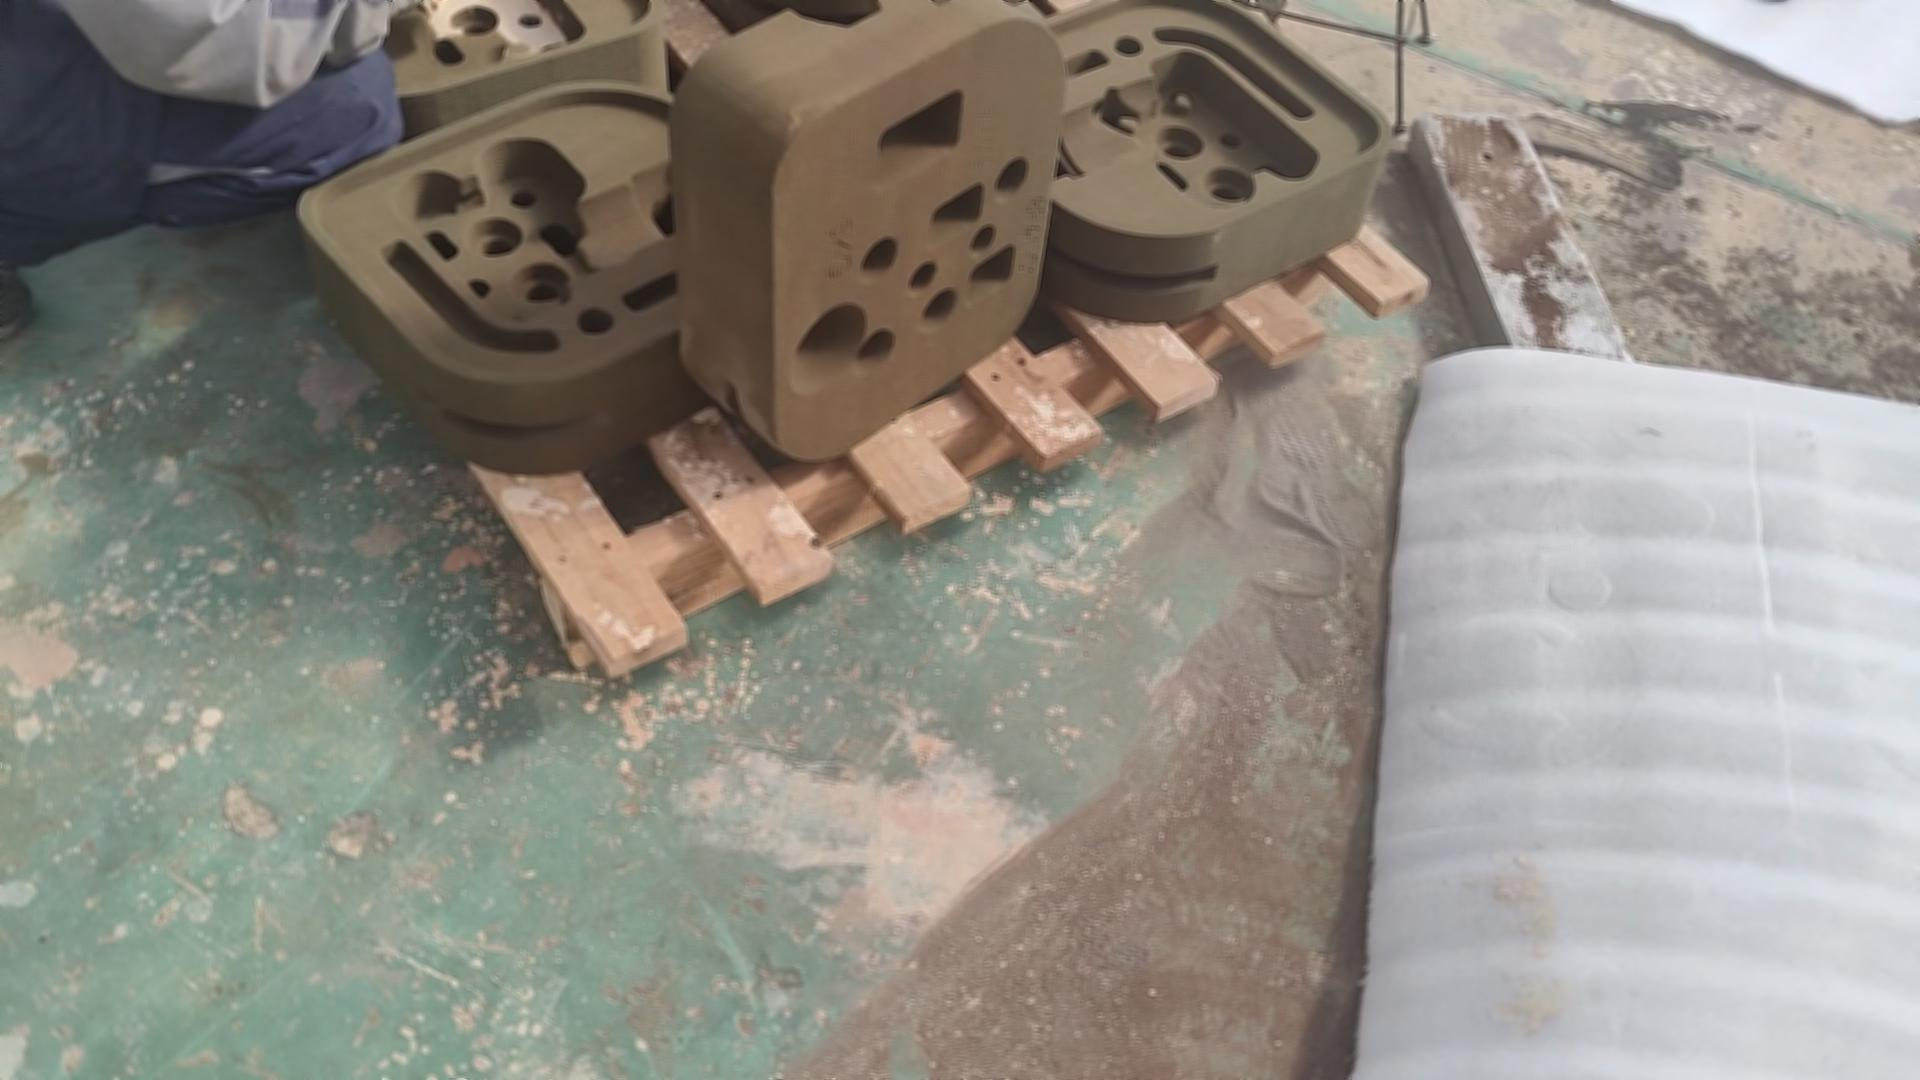pouring hole: (789, 302, 868, 394)
